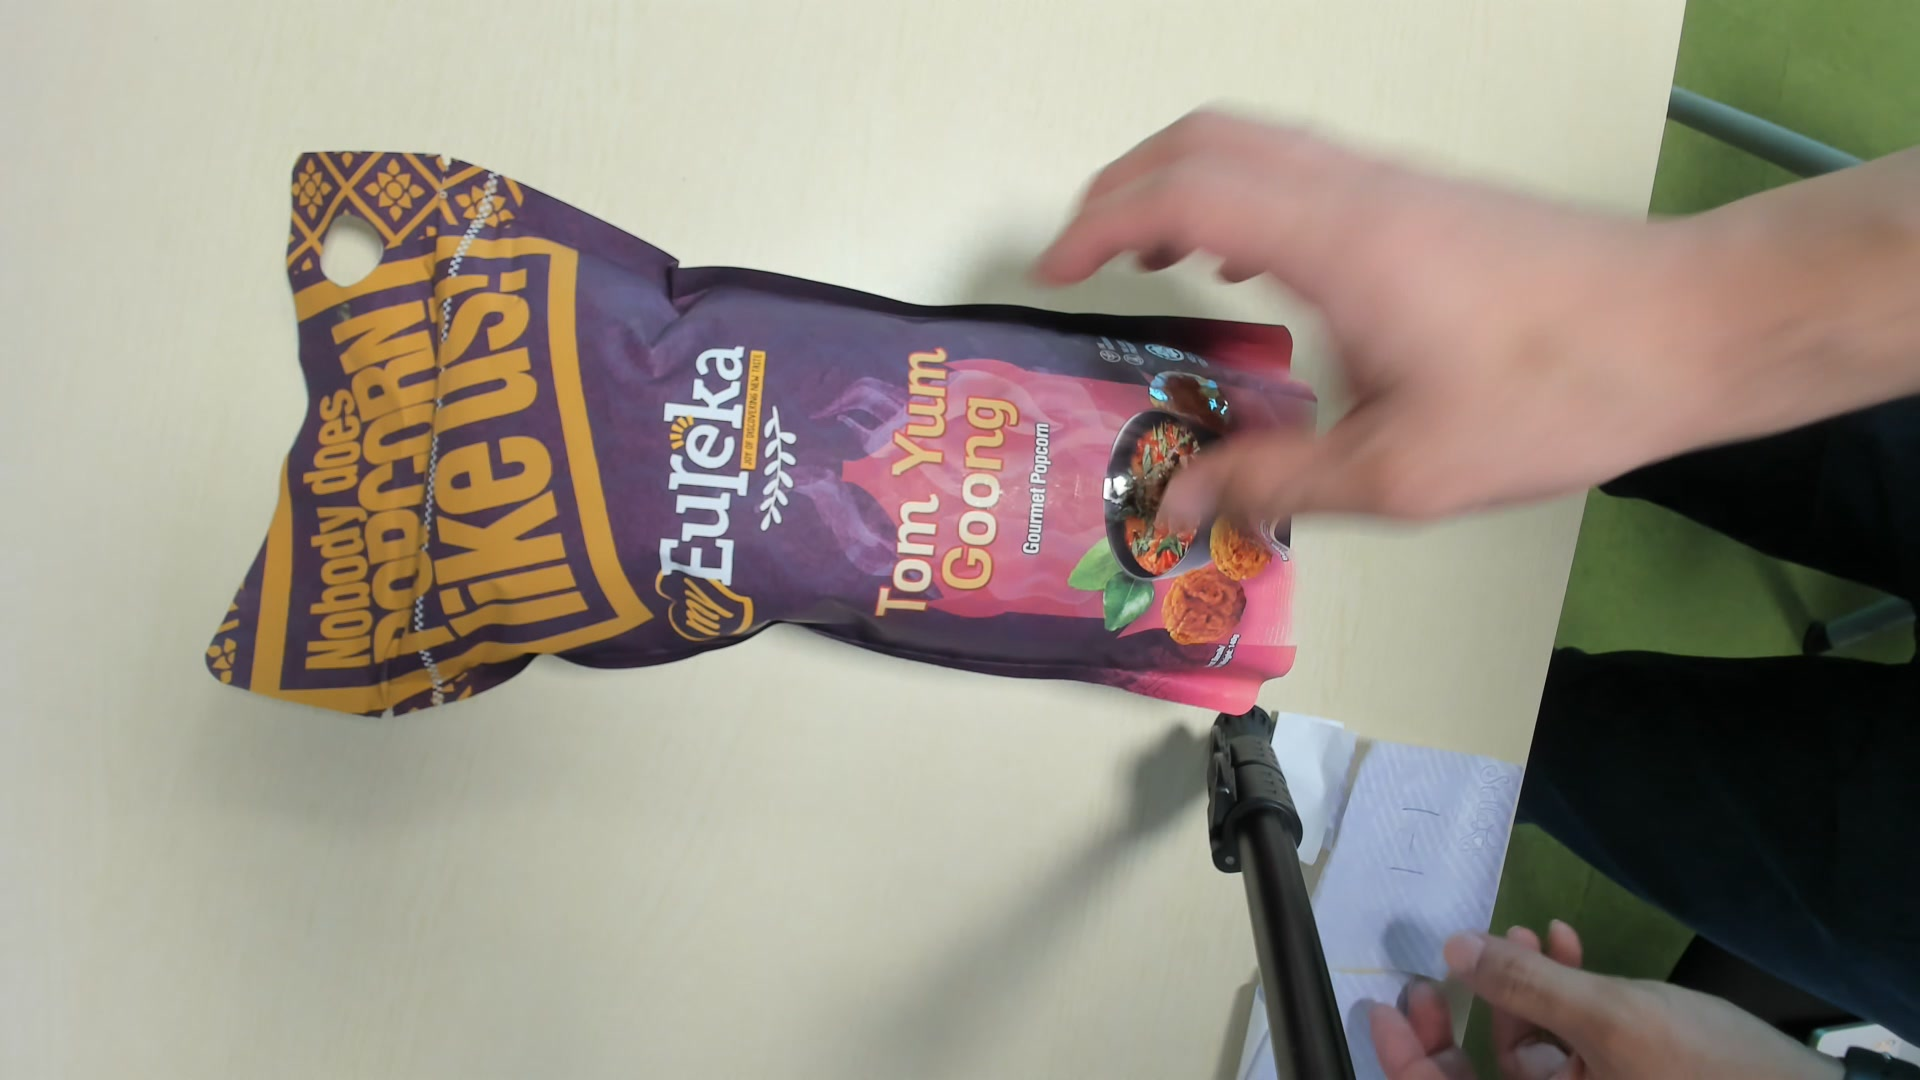PotatoChipsKeropok_100-199g_Halal_NonHealthy: (258, 160, 1328, 742)
